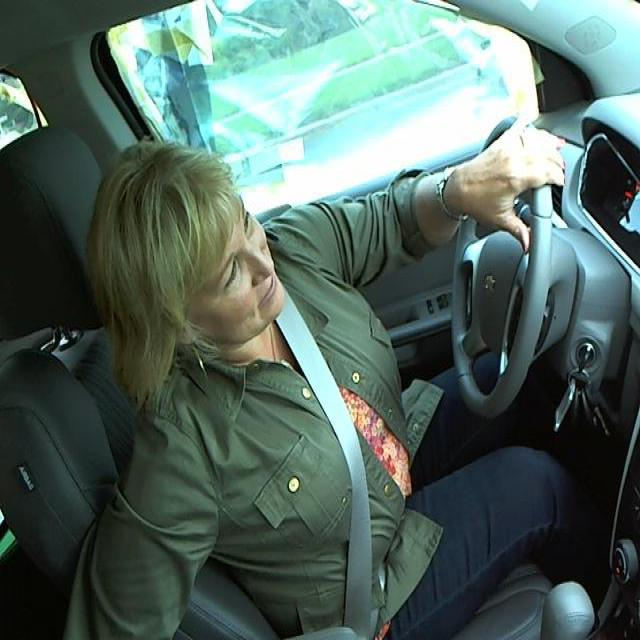seatbelt: (280, 324, 418, 620)
